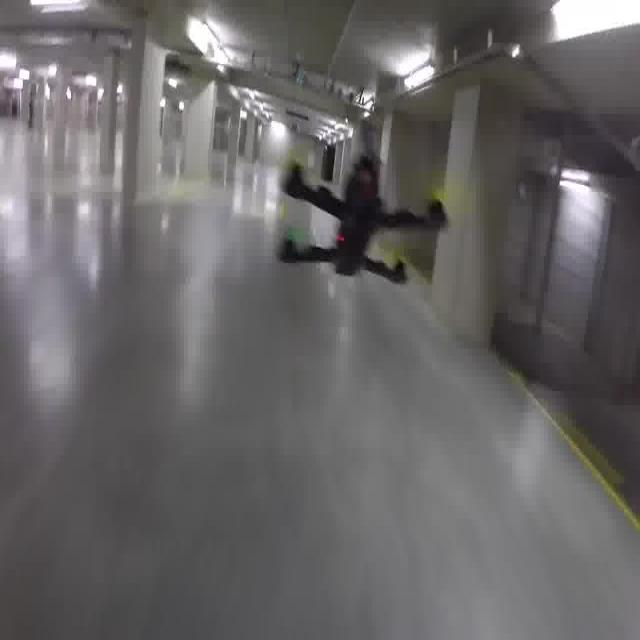drone: (276, 152, 448, 288)
